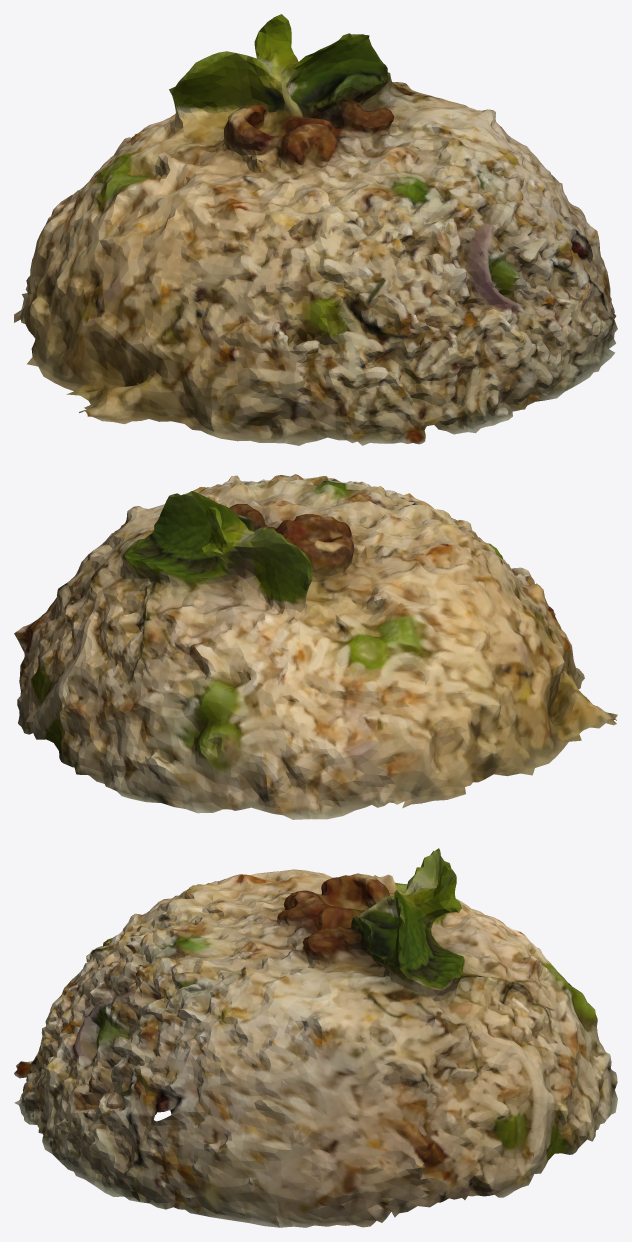
File: Nasi.fbx
3 renders of one model, top to bottom at view 1: azimuth 30°, elevation 25°; view 2: azimuth 150°, elevation 25°; view 3: azimuth 270°, elevation 25°, orthographic. The views are drawn at different scales.
Visible parts, largest first — view 1: Mesh_0; view 2: Mesh_0; view 3: Mesh_0.
Part boxes in pixels (left/top/right/bottom): Mesh_0: left=14, top=14, right=617, bottom=445; Mesh_0: left=14, top=474, right=617, bottom=819; Mesh_0: left=14, top=848, right=617, bottom=1227.
Bounding box in the file's own units: 121 × 53.54 × 117.
Materials: 1 (1 with a texture image).
